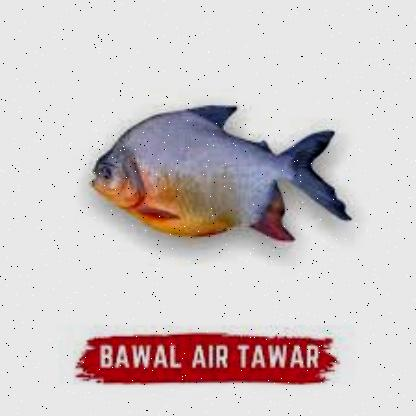ikan-pacu: (89, 103, 345, 238)
